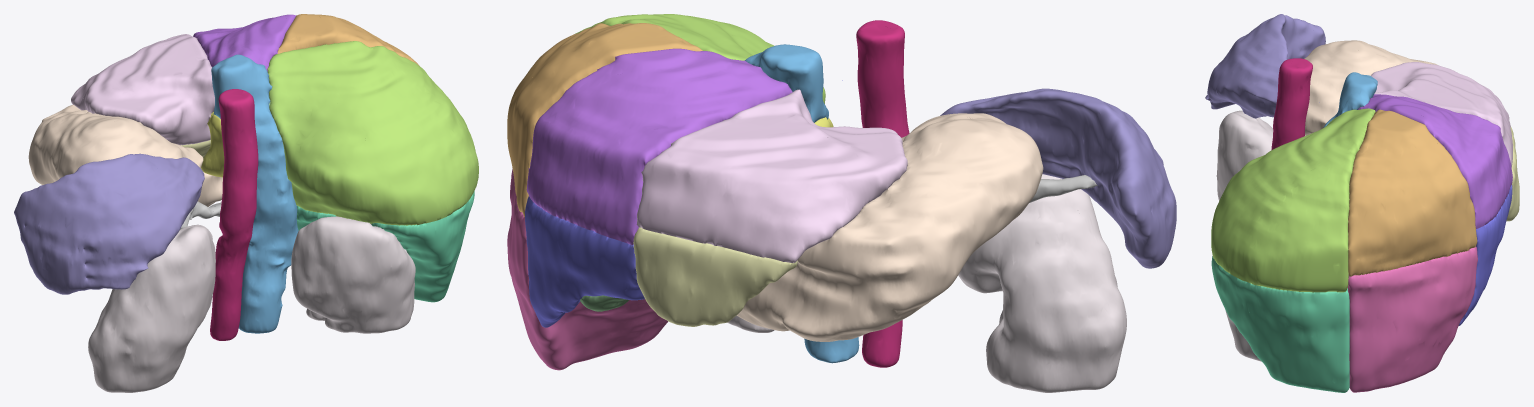
Rendered from openanatomy-liver.glb.
3 renders of one model, left to right at view 1: azimuth 30°, elevation 25°; view 2: azimuth 150°, elevation 25°; view 3: azimuth 270°, elevation 25°, orthographic. The views are drawn at different scales.
Parts seen in each view (by area): view 1: Liver Segment VII, Spleen, Left kidney, Right kidney, Inferior vena cava, Liver Segment II, Aorta, Stomach, Liver Segment VI, Liver Segment IVa, Liver Segment VIII, Liver Segment I (+1 smaller); view 2: Stomach, Liver Segment II, Liver Segment IVa, Left kidney, Spleen, Liver Segment III, Liver Segment IVb, Liver Segment VIII, Liver Segment V, Aorta, Inferior vena cava, Liver Segment VII (+2 smaller); view 3: Liver Segment VII, Liver Segment VIII, Liver Segment V, Liver Segment VI, Liver Segment IVa, Spleen, Liver Segment II, Stomach, Left kidney, Aorta, Liver Segment IVb, Inferior vena cava (+2 smaller).
Part boxes in pixels (bbox=[...]): Liver Segment VII: bbox=[267, 41, 478, 225]; Spleen: bbox=[14, 153, 204, 294]; Left kidney: bbox=[88, 224, 215, 392]; Right kidney: bbox=[291, 216, 415, 333]; Inferior vena cava: bbox=[211, 54, 298, 333]; Liver Segment II: bbox=[71, 34, 214, 145]; Aorta: bbox=[210, 89, 258, 340]; Stomach: bbox=[28, 104, 222, 206]; Liver Segment VI: bbox=[296, 191, 474, 302]; Liver Segment IVa: bbox=[193, 14, 296, 71]; Liver Segment VIII: bbox=[277, 14, 419, 65]; Liver Segment I: bbox=[201, 112, 224, 177]; Stomach: bbox=[737, 113, 1043, 341]; Liver Segment II: bbox=[636, 89, 907, 262]; Liver Segment IVa: bbox=[526, 48, 792, 244]; Left kidney: bbox=[958, 174, 1126, 392]; Spleen: bbox=[940, 88, 1176, 268]; Liver Segment III: bbox=[633, 227, 797, 326]; Liver Segment IVb: bbox=[525, 80, 842, 327]; Liver Segment VIII: bbox=[507, 23, 702, 216]; Liver Segment V: bbox=[507, 169, 667, 370]; Aorta: bbox=[856, 20, 909, 367]; Inferior vena cava: bbox=[745, 44, 859, 363]; Liver Segment VII: bbox=[575, 14, 825, 103]; Liver Segment VII: bbox=[1211, 108, 1375, 292]; Liver Segment VIII: bbox=[1348, 109, 1477, 276]; Liver Segment V: bbox=[1347, 247, 1477, 392]; Liver Segment VI: bbox=[1211, 256, 1349, 392]; Liver Segment IVa: bbox=[1358, 94, 1512, 228]; Spleen: bbox=[1205, 14, 1325, 118]; Liver Segment II: bbox=[1371, 62, 1512, 166]; Stomach: bbox=[1304, 40, 1437, 135]; Left kidney: bbox=[1216, 110, 1273, 200]; Aorta: bbox=[1271, 58, 1312, 149]; Liver Segment IVb: bbox=[1319, 102, 1512, 325]; Inferior vena cava: bbox=[1323, 72, 1377, 127].
Bounding box in the file's own units: 0.3309 × 0.1738 × 0.2164.
